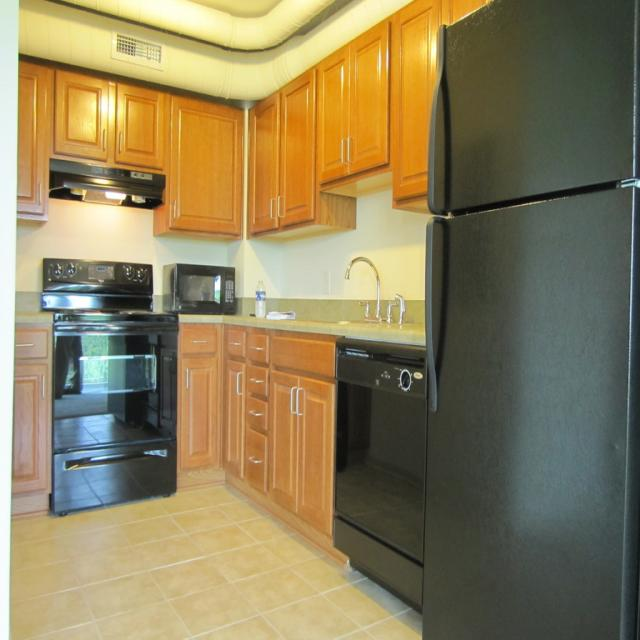Flask: (256, 276, 268, 325)
Handle: (288, 382, 301, 426), (293, 384, 304, 426)
door: (176, 104, 246, 234), (295, 372, 332, 526), (276, 80, 315, 218), (116, 81, 169, 177), (271, 372, 305, 506), (183, 360, 222, 474), (58, 74, 108, 158), (252, 109, 285, 235), (354, 32, 384, 161), (319, 63, 351, 174), (228, 363, 250, 482)
oven: (56, 316, 172, 516), (335, 334, 421, 592), (172, 256, 240, 314)
refrigerator: (419, 29, 637, 640)
tap: (341, 244, 374, 296)
